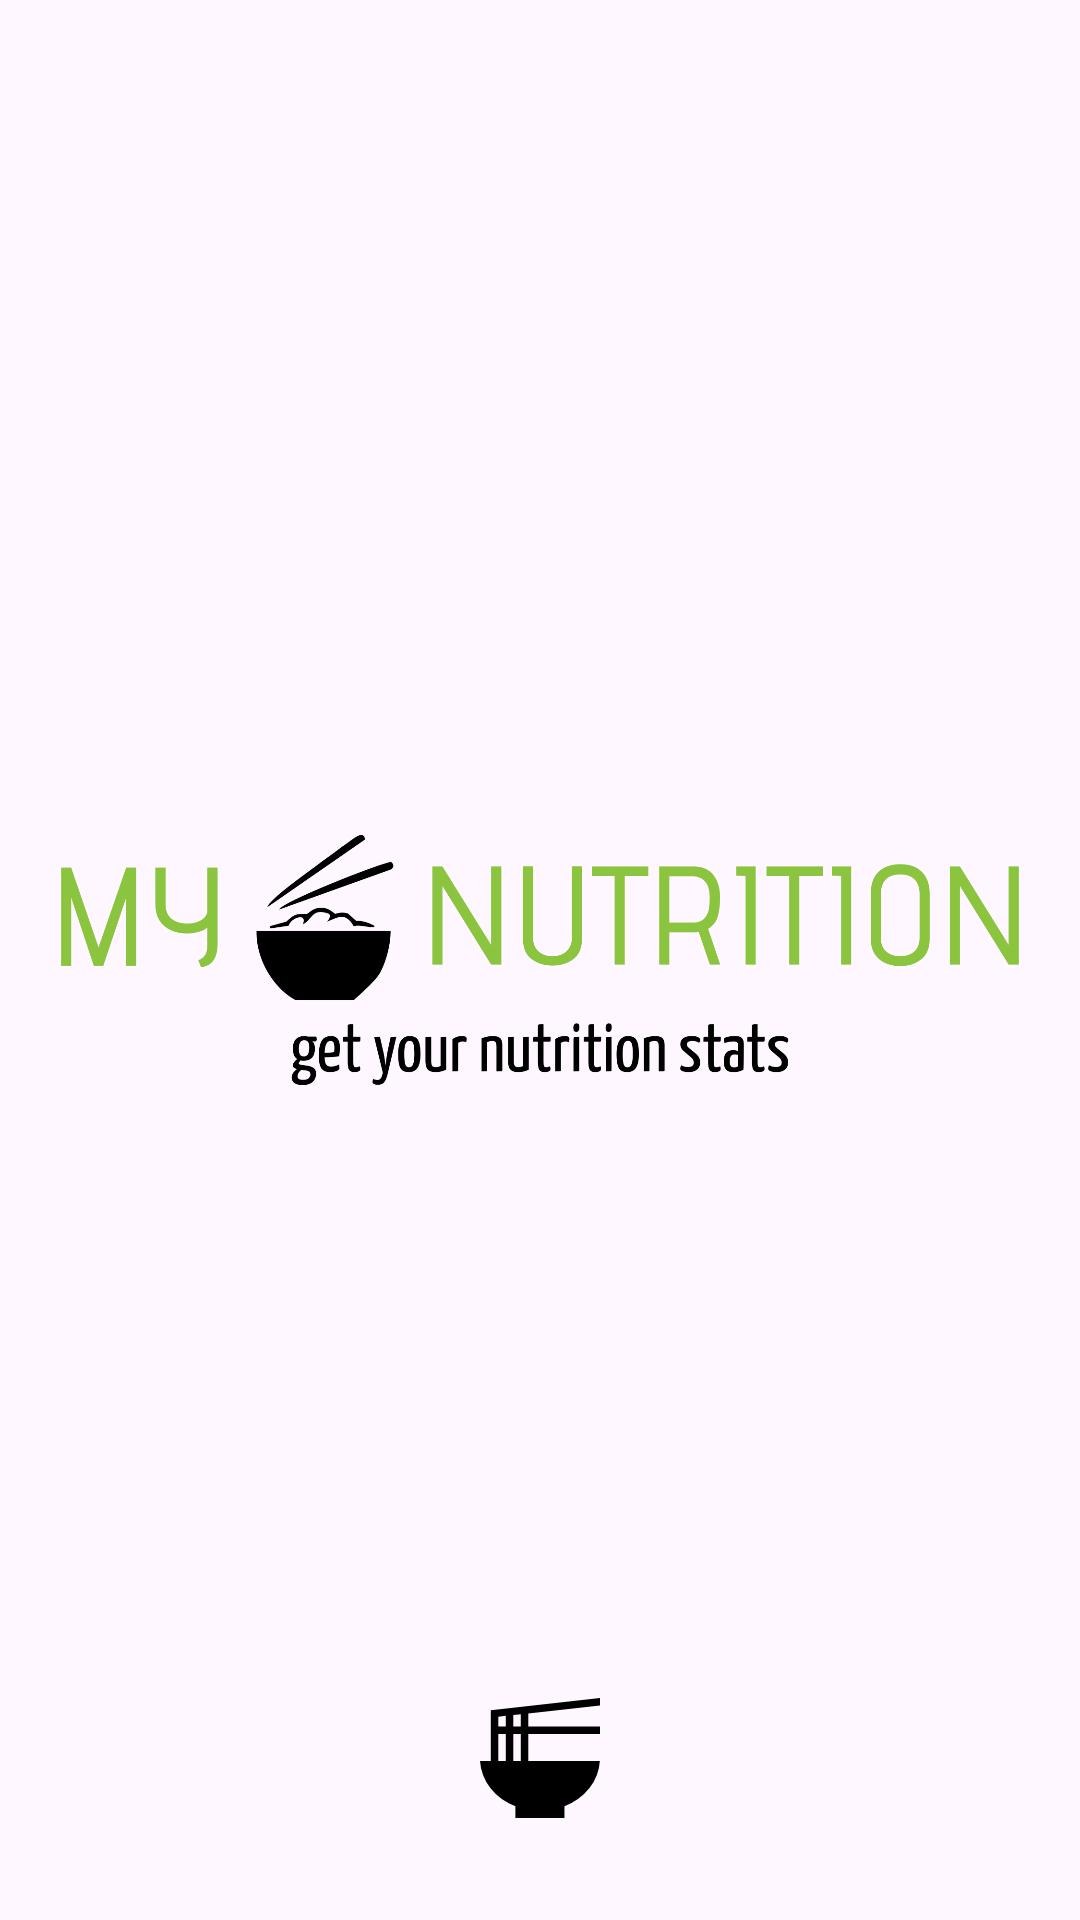

Icon bounding boxes for this 1080×1920 phone screenshot, format (x1, y1, x2, y2):
ramen: (480, 1698, 600, 1818)
